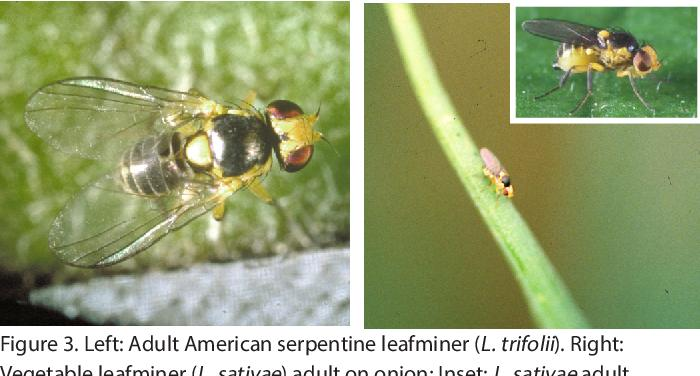Trifoli: (17, 58, 329, 290), (521, 14, 677, 118), (474, 138, 527, 208)
